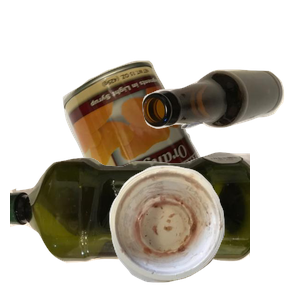glass: (140, 67, 300, 188)
metal: (60, 58, 300, 238)
plastic: (10, 149, 250, 300)
trash: (107, 163, 300, 300)
